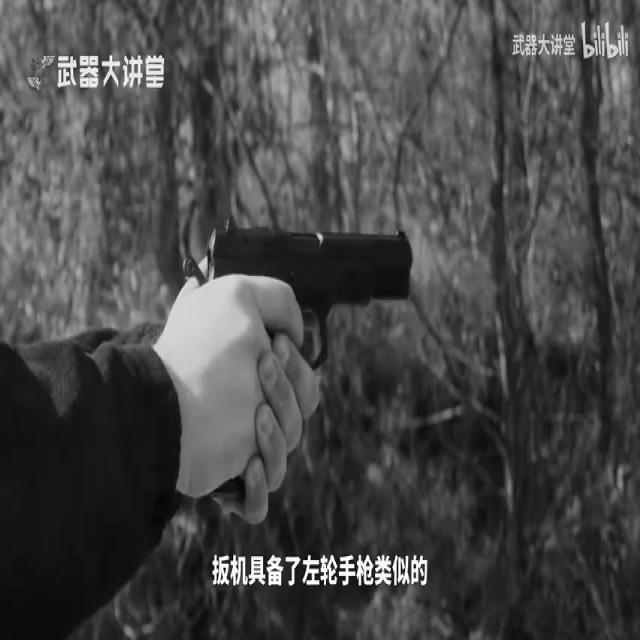Hand-Gun: (195, 223, 418, 358)
